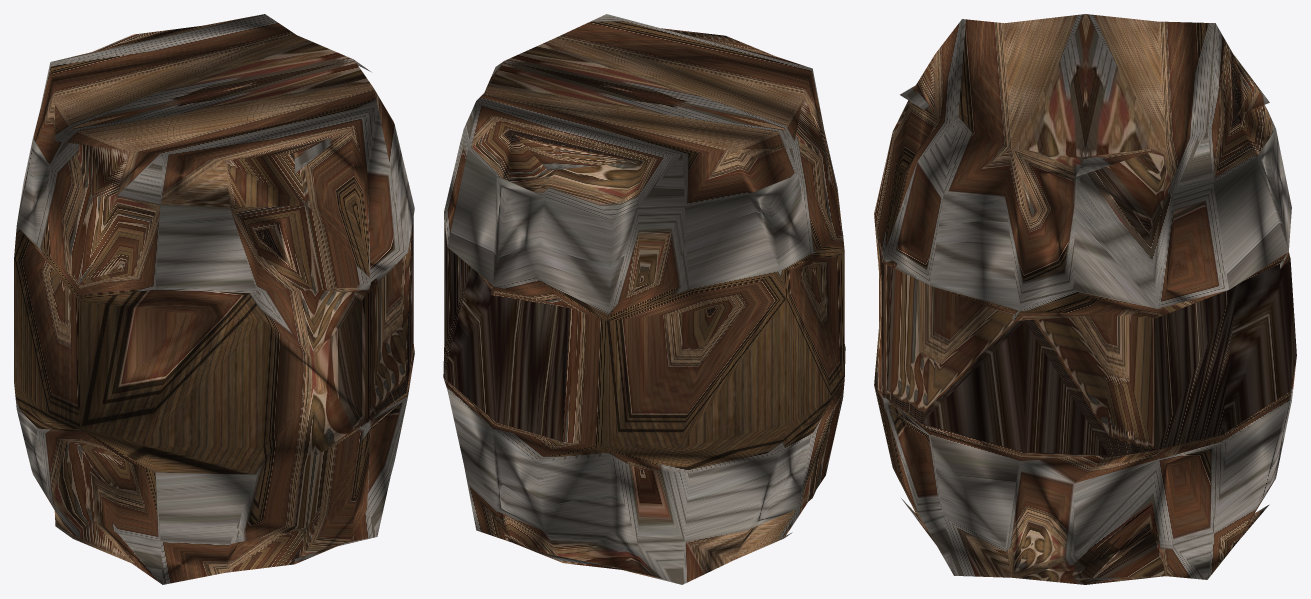
Rendered from wine_barrel_01.glb.
The picture shows the model from 3 angles, left to right: view 1: azimuth 30°, elevation 25°; view 2: azimuth 150°, elevation 25°; view 3: azimuth 270°, elevation 25°; orthographic projection. The views are drawn at different scales.
Visible parts, largest first — view 1: wine_barrel_01; view 2: wine_barrel_01; view 3: wine_barrel_01.
Boxes of the visible parts, x1,y1,x2,y2 form: wine_barrel_01: (14,14,414,584); wine_barrel_01: (443,14,845,584); wine_barrel_01: (874,14,1296,584).
Bounding box in the file's own units: 0.7201 × 0.8432 × 0.7178.
Materials: 1 (1 with a texture image).
